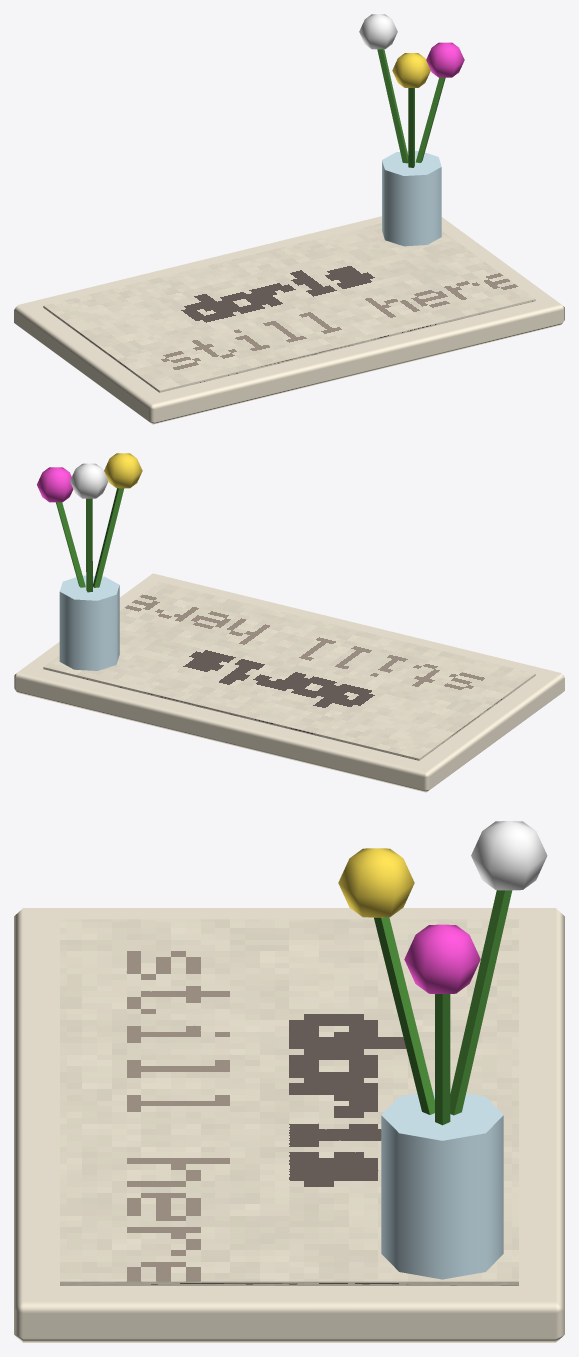
The model's file is s_longplaque_a.glb.
3 views of the same model, one above another, from view 1: azimuth 30°, elevation 25°; view 2: azimuth 150°, elevation 25°; view 3: azimuth 270°, elevation 25° (orthographic). The views are drawn at different scales.
Visible parts, largest first — view 1: s_longplaque_a_mesh; view 2: s_longplaque_a_mesh; view 3: s_longplaque_a_mesh.
Part boxes in pixels (x1,y1,x2,y2): s_longplaque_a_mesh: (14, 14, 564, 424); s_longplaque_a_mesh: (14, 453, 564, 792); s_longplaque_a_mesh: (14, 821, 564, 1342).
Size of what is drawn, in the model's own units: 0.6217 by 0.335 by 0.36.
7 materials, 6 textured.
